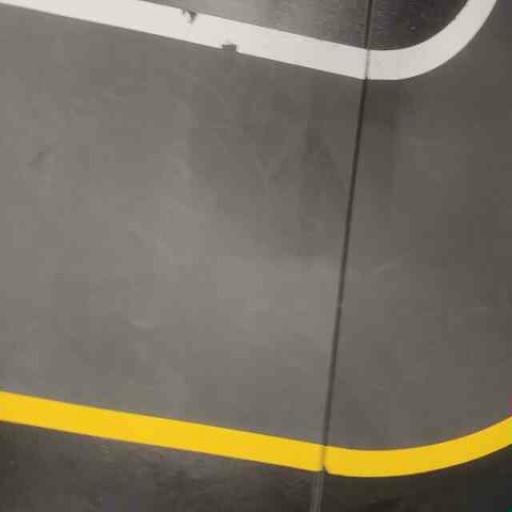straight: (105, 0, 369, 474)
